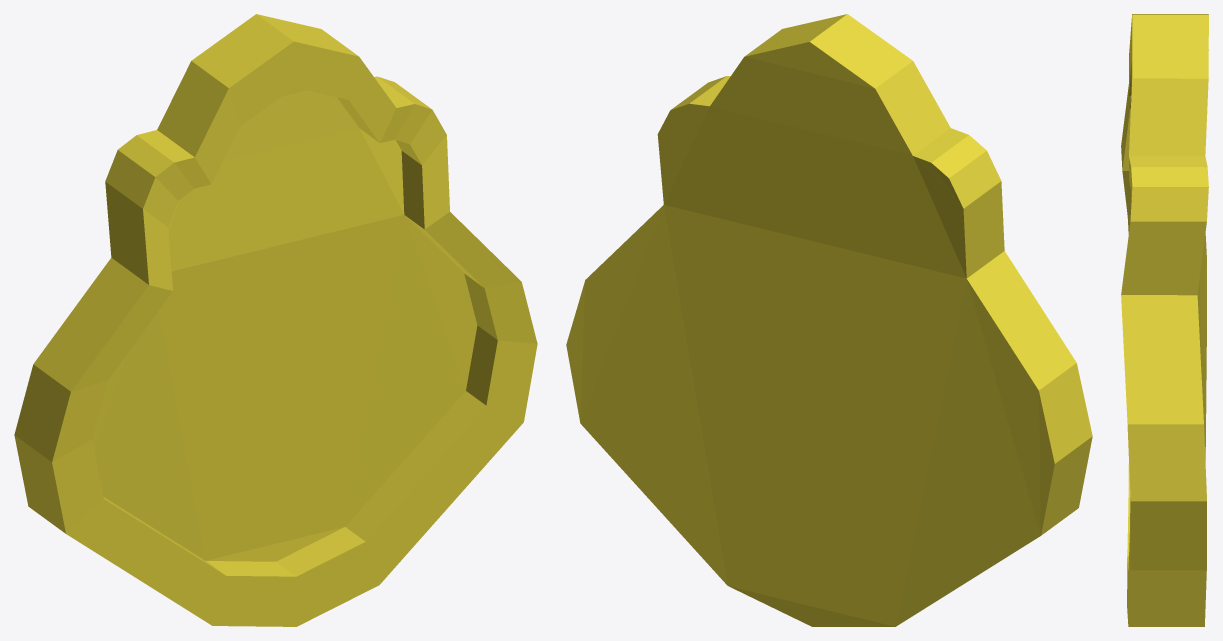
File: JanelaFloralPrincipal.Low.fbx
The picture shows the model from 3 angles, left to right: view 1: azimuth 30°, elevation 25°; view 2: azimuth 150°, elevation 25°; view 3: azimuth 270°, elevation 25°; orthographic projection.
Parts seen in each view (by area): view 1: JanelaFloralPrincipal.Low; view 2: JanelaFloralPrincipal.Low; view 3: JanelaFloralPrincipal.Low.
Part boxes in pixels (x1,y1,x2,y2): JanelaFloralPrincipal.Low: (14,14,537,626); JanelaFloralPrincipal.Low: (566,14,1092,626); JanelaFloralPrincipal.Low: (1121,14,1208,626).
Bounding box in the file's own units: 92.99 × 107 × 14.36.
